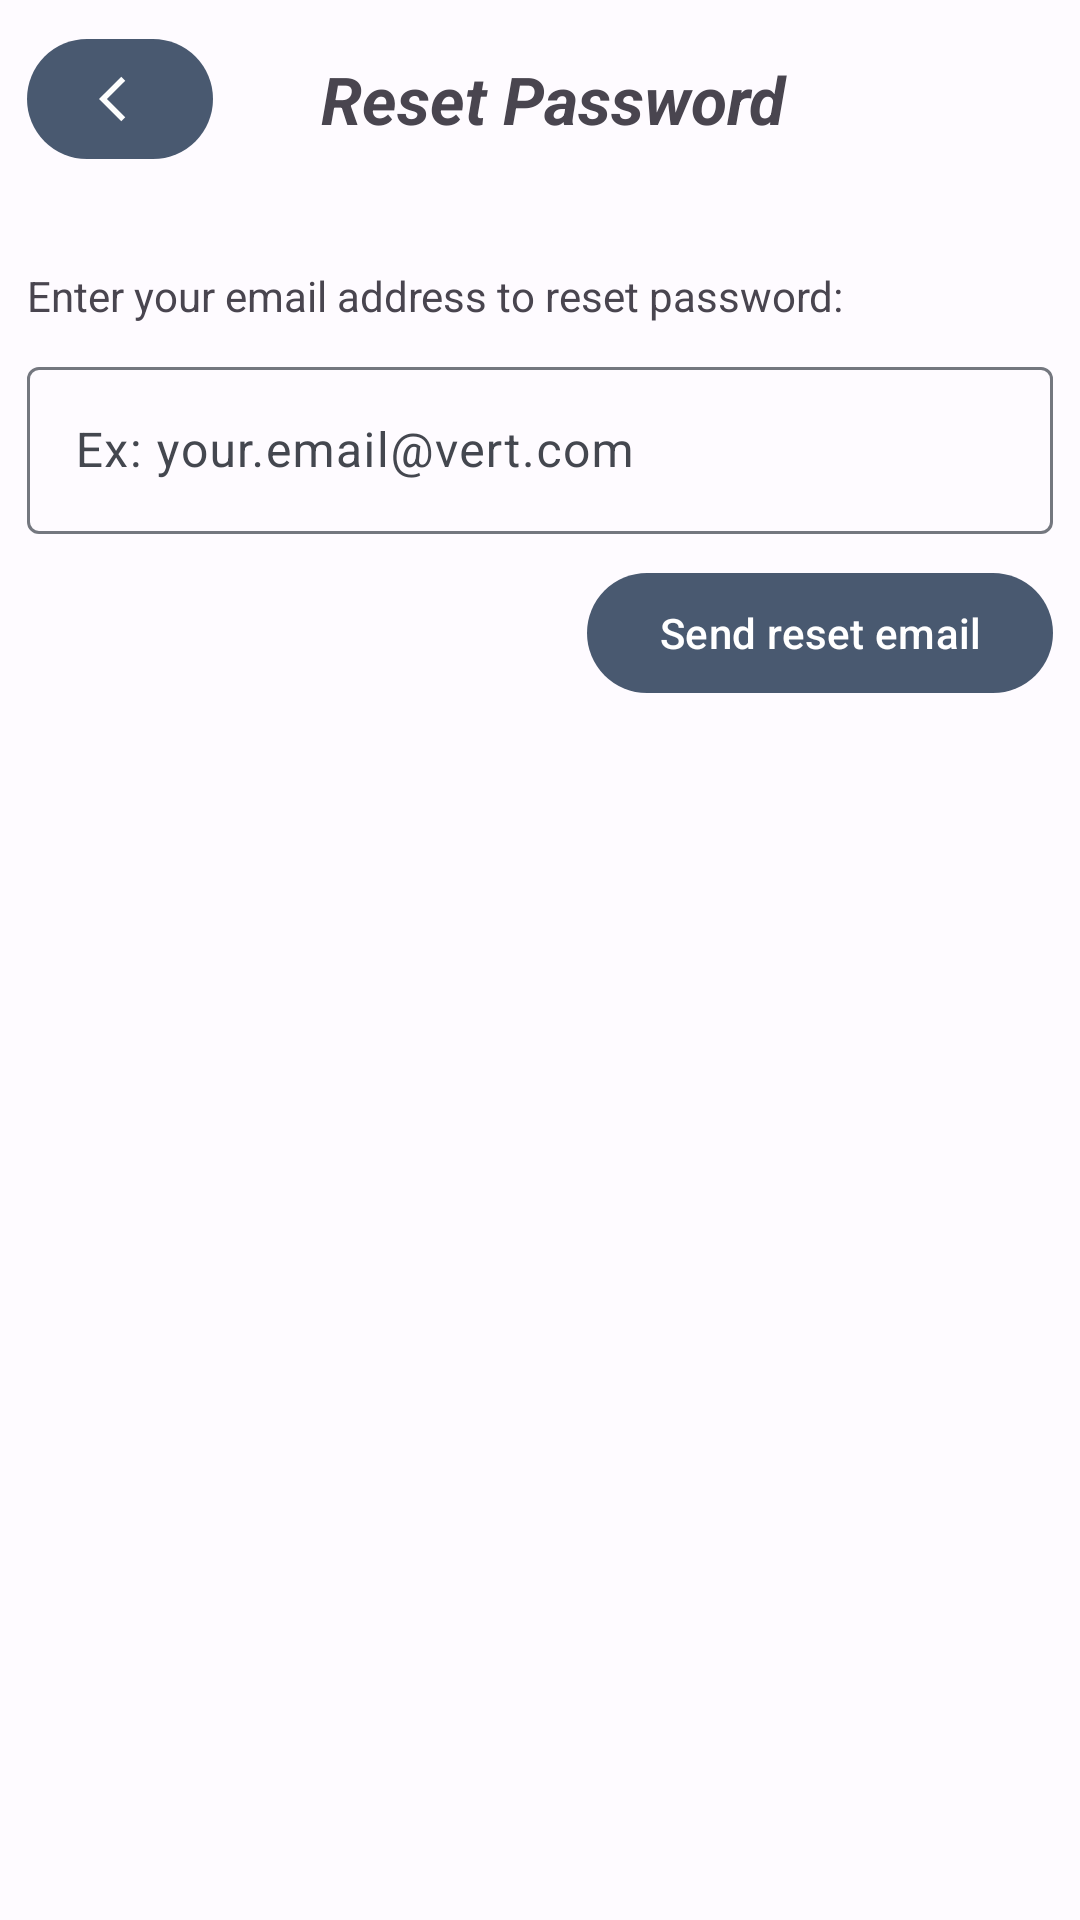

Where icons sit on this 1080 × 1920 app screen, as {"x1": x1, "y1": y1, "x2": x2, "y2": y2}:
back: {"x1": 27, "y1": 39, "x2": 213, "y2": 159}
